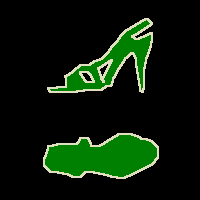shoe: (48, 18, 152, 92), (44, 134, 158, 178)
